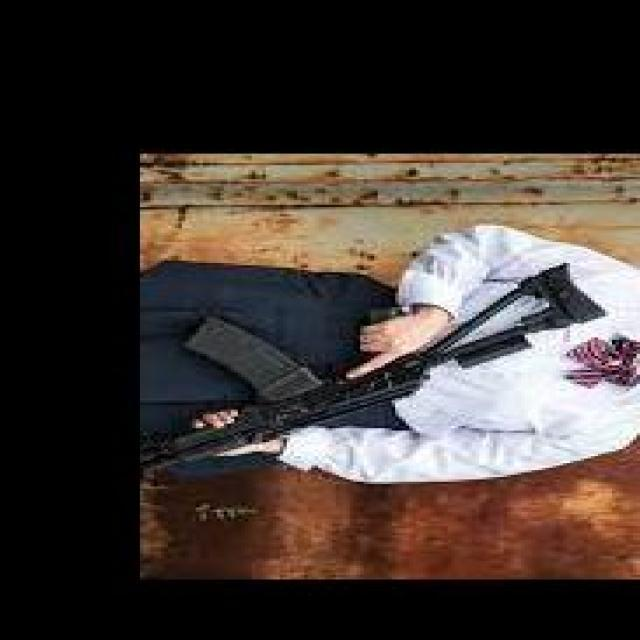weapon: (142, 260, 608, 476)
